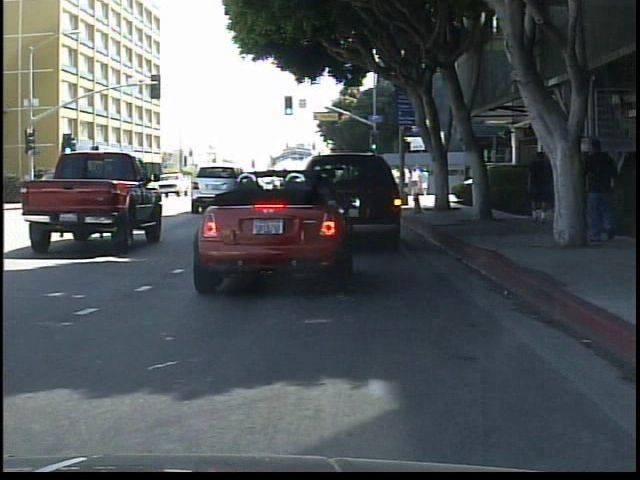person: (580, 136, 625, 243), (524, 149, 554, 230), (149, 171, 168, 198)
